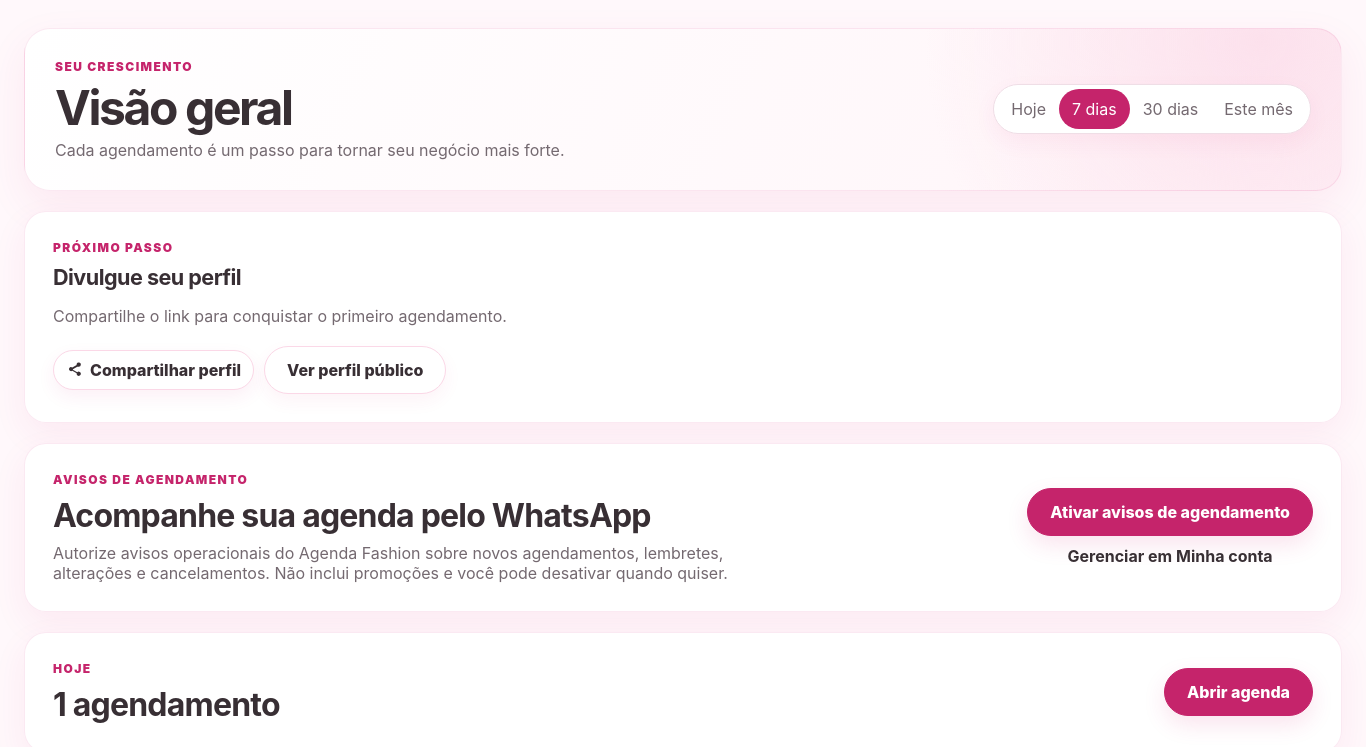
Test: dashboard › mantém o erro operacional no card e permite tentar a autorização novamente
What coordinates should you click on to do the following:
click the button "Ativar avisos de agendamento"
I would click on:
 (1170, 512)
Its box is [1027,488,1313,536].
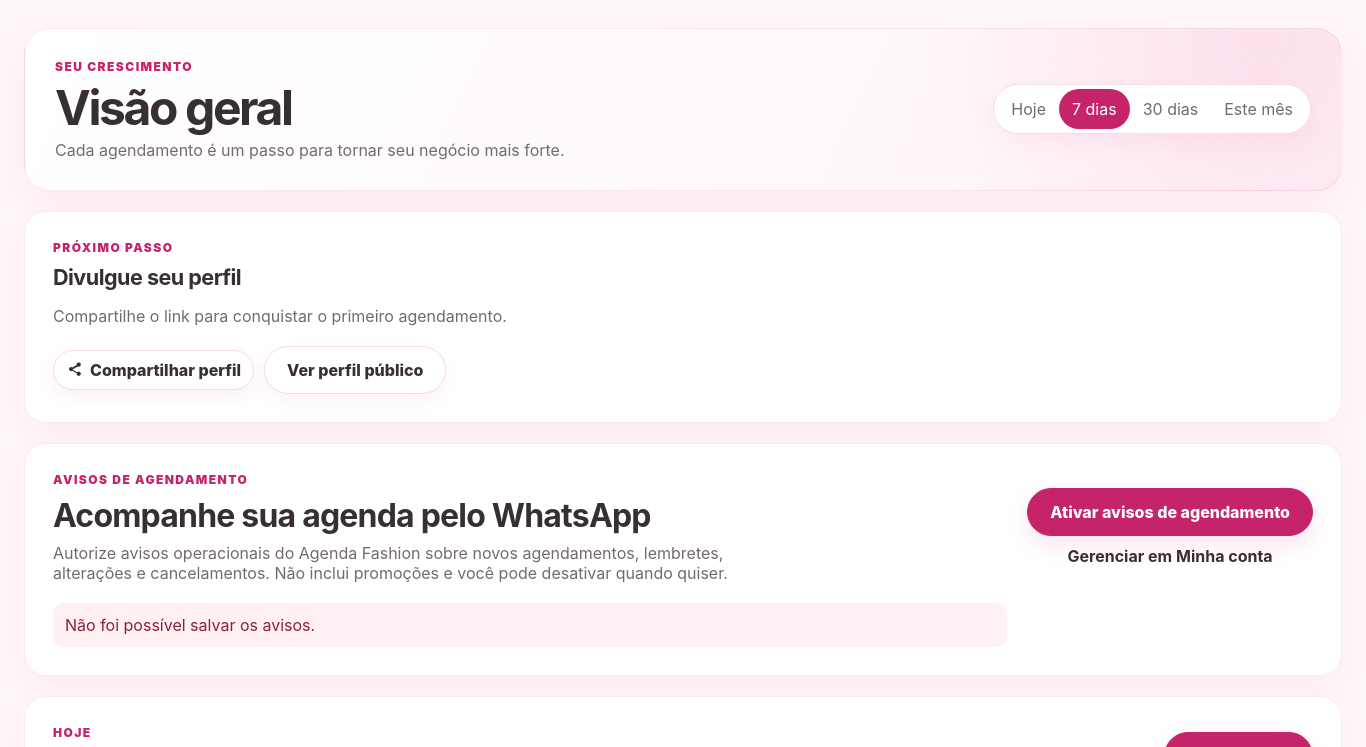
Expected: the message reads "Não foi possível salvar os avisos.", [65,615,315,635]
What coordinates should you click on to do the following:
click the button "Ativar avisos de agendamento"
I would click on:
 (1170, 512)
Its box is [1027,488,1313,536].
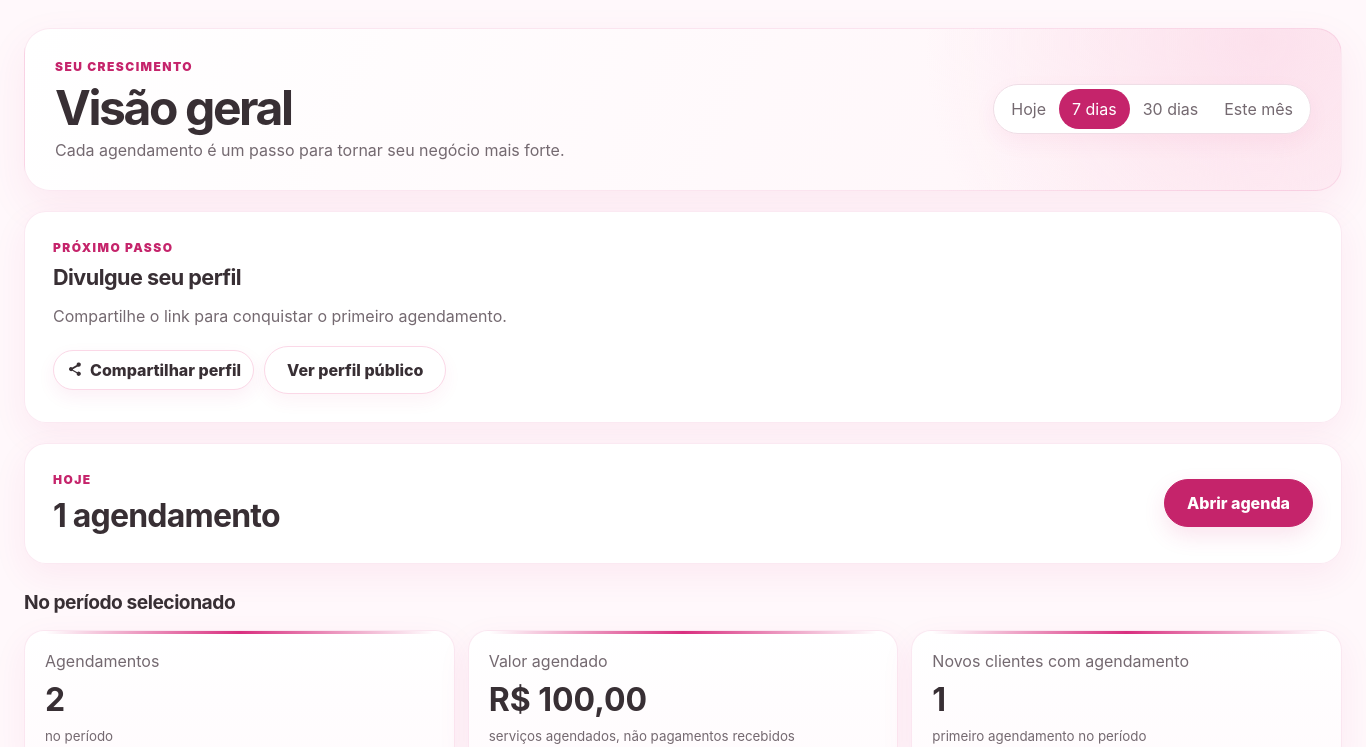
Expected: the heading "Acompanhe sua agenda pelo WhatsApp" is gone
Expected: the text "Não foi possível salvar os avisos." is gone
